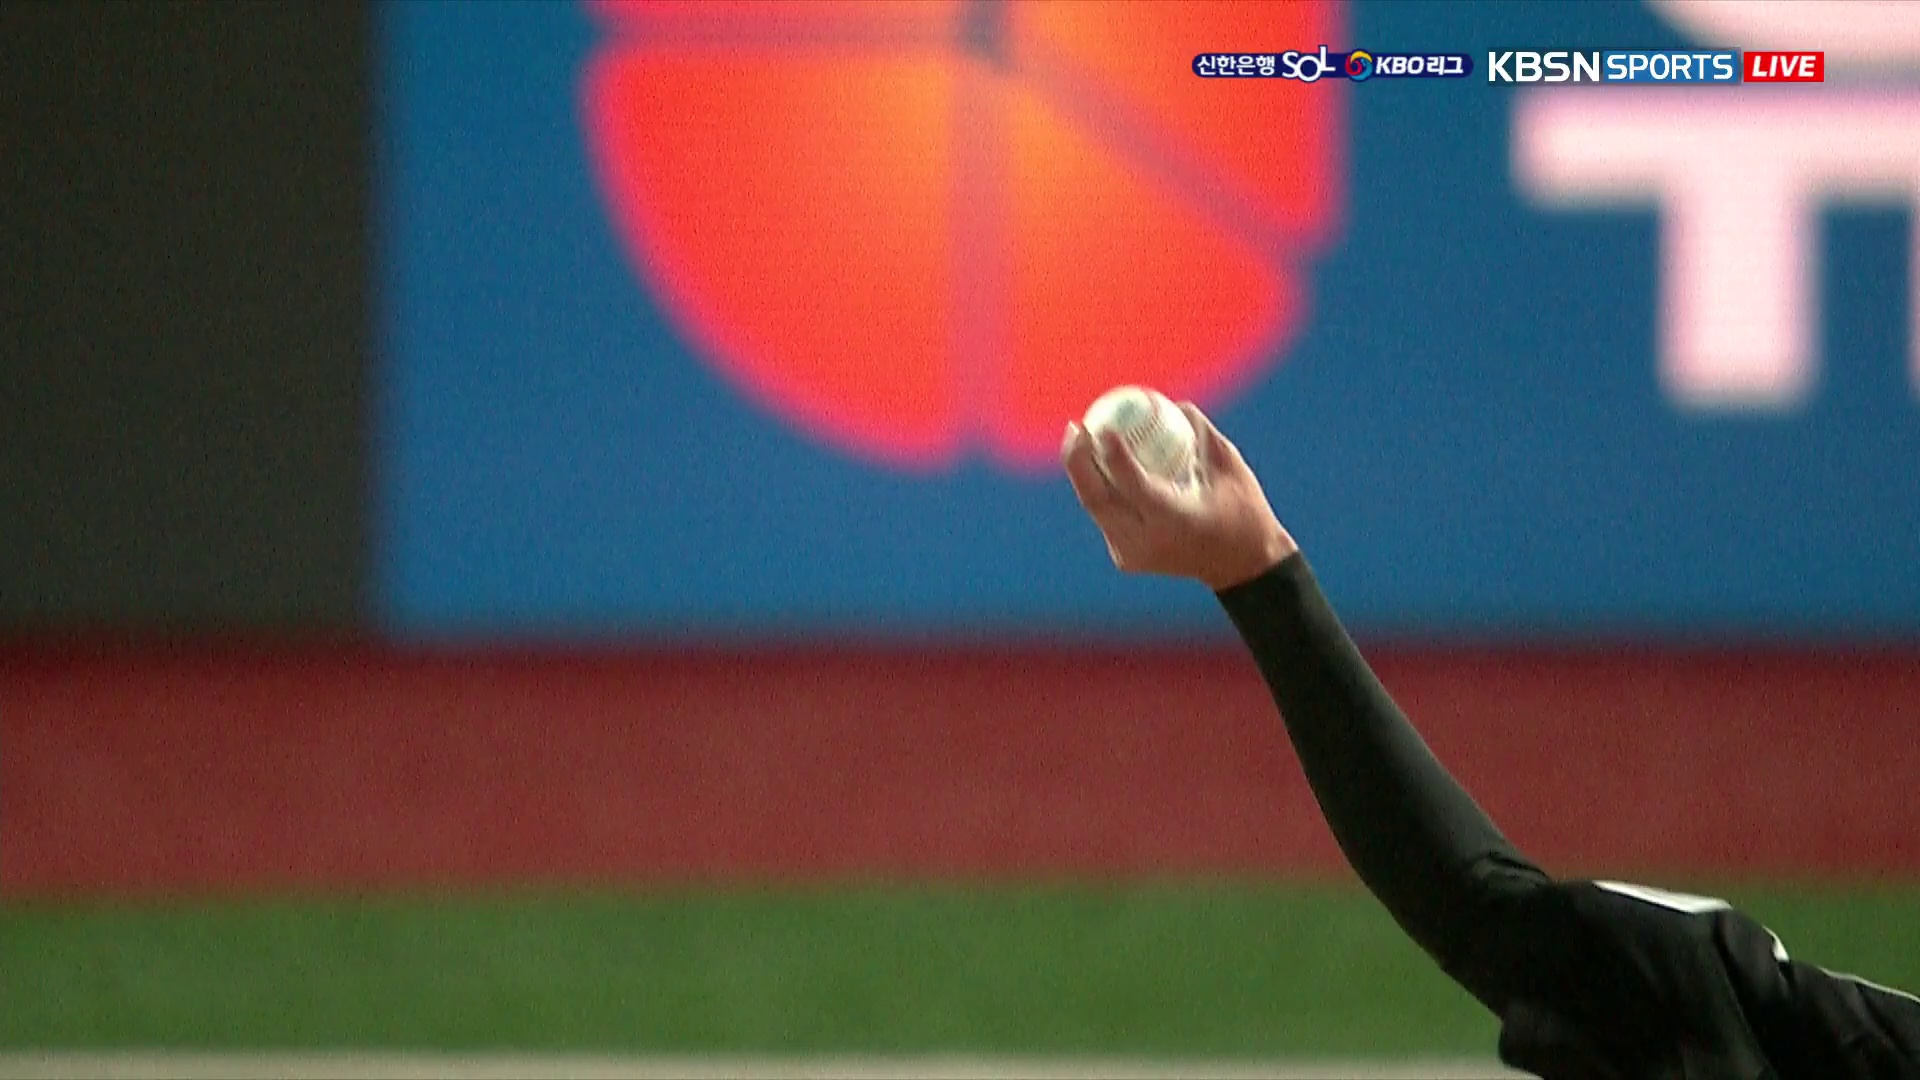zoomin_hand: (1054, 378, 1578, 997)
